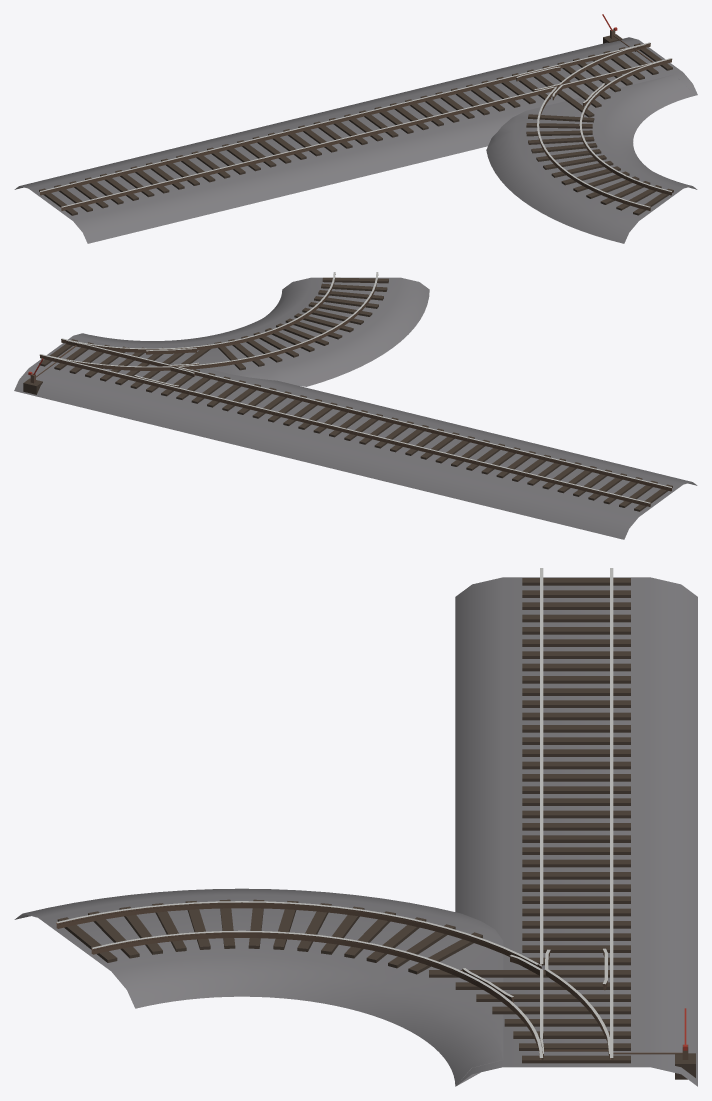
File: rail_junction_center.glb
3 views of the same model, one above another, from view 1: azimuth 30°, elevation 25°; view 2: azimuth 150°, elevation 25°; view 3: azimuth 270°, elevation 25° (orthographic). The views are drawn at different scales.
Parts seen in each view (by area): view 1: rail_junction_center_lod0; view 2: rail_junction_center_lod0; view 3: rail_junction_center_lod0.
Part boxes in pixels (<box>): rail_junction_center_lod0: <box>14,14,697,243</box>; rail_junction_center_lod0: <box>14,272,697,539</box>; rail_junction_center_lod0: <box>14,568,697,1086</box>.
Size of what is drawn, in the model's own units: 27.71 by 1.55 by 16.35.
